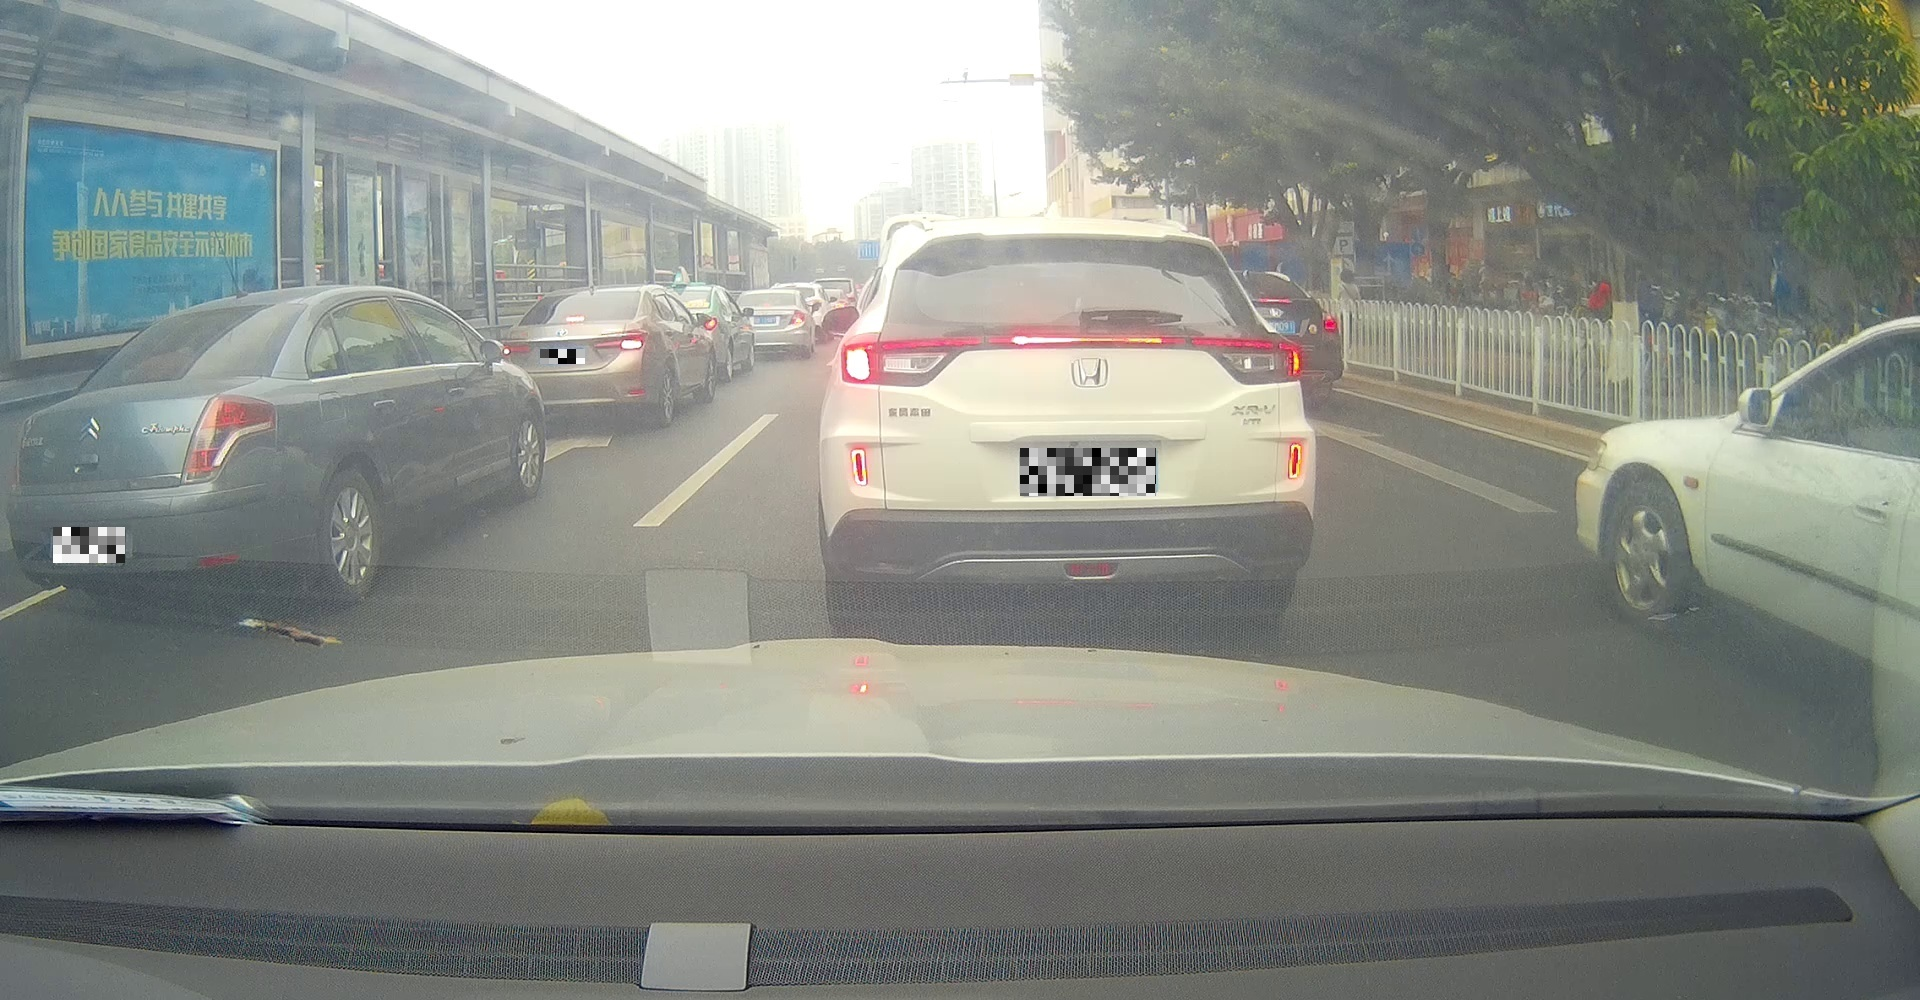L_light: (841, 338, 985, 387), (11, 437, 24, 490), (503, 344, 531, 357)
R_light: (179, 390, 277, 486), (1191, 335, 1302, 385), (594, 332, 644, 352)
T_light: (1011, 336, 1161, 346), (206, 310, 236, 316), (565, 316, 585, 322)
day-brake: (818, 217, 1317, 629), (500, 284, 650, 434)
day-no: (8, 286, 323, 607)
plate_1: (53, 527, 124, 563)
plate_2: (540, 349, 585, 364)
plate_3: (1020, 448, 1156, 496)
